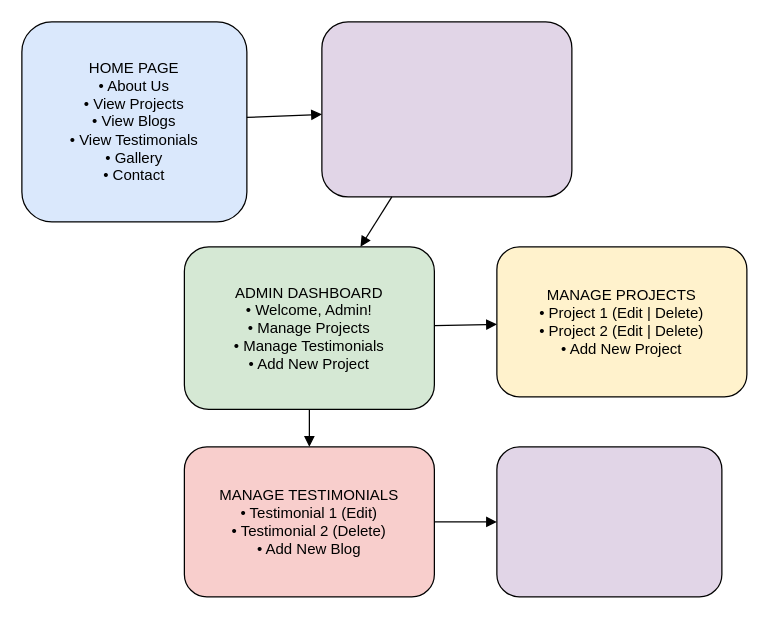
Some shapes in this 769 by 619 pixel diagram are drawn without their labels. Each missing label, with the centre of its shape:
"ADMIN LOGIN PAGE • Username • Password • Login • Register | Forgot Password" belongs at point 446,109.
"CONTACT PAGE • Name • Email • Message • Send" belongs at point 609,521.
